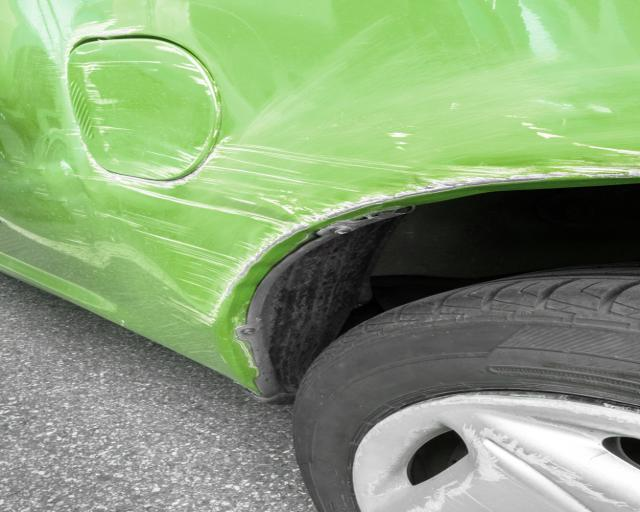scratch: (0, 111, 640, 328), (73, 38, 221, 176)
